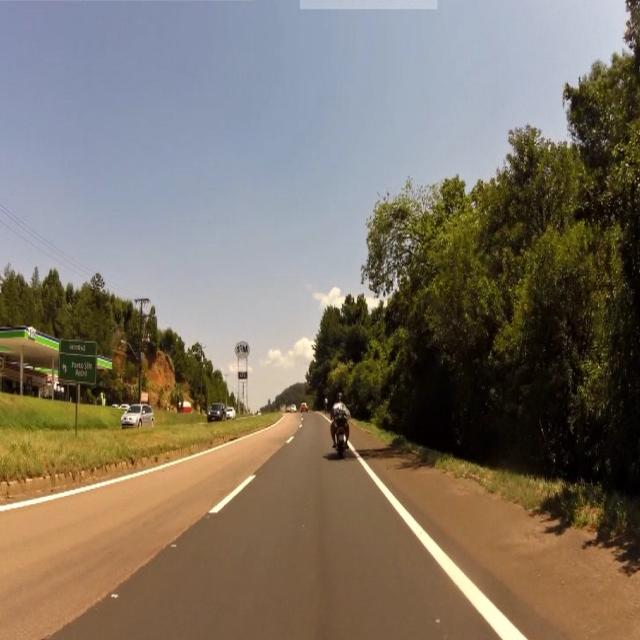I-4: (60, 342, 100, 382)
